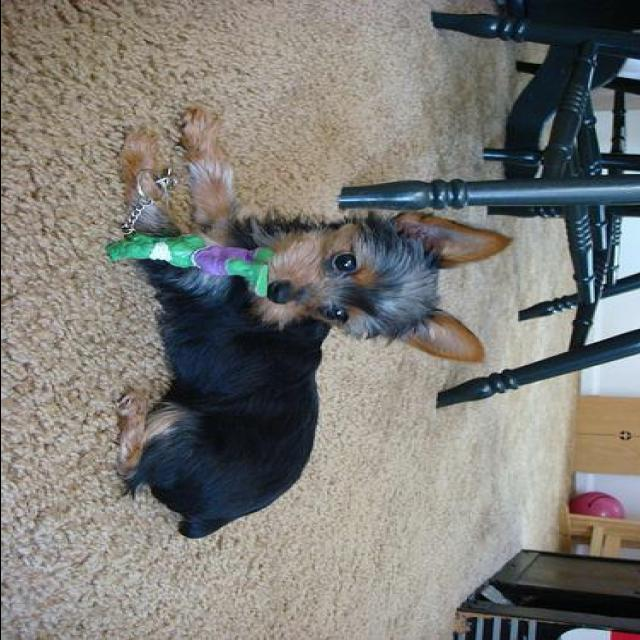toy_terrier: (111, 105, 512, 539)
